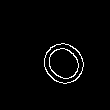O_NW: (22, 22, 88, 88)
